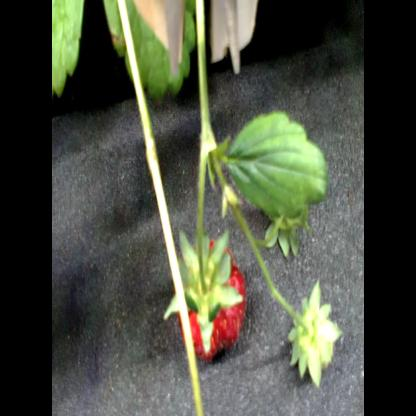ripe: (178, 236, 244, 364)
unripe: (213, 296, 233, 308)
